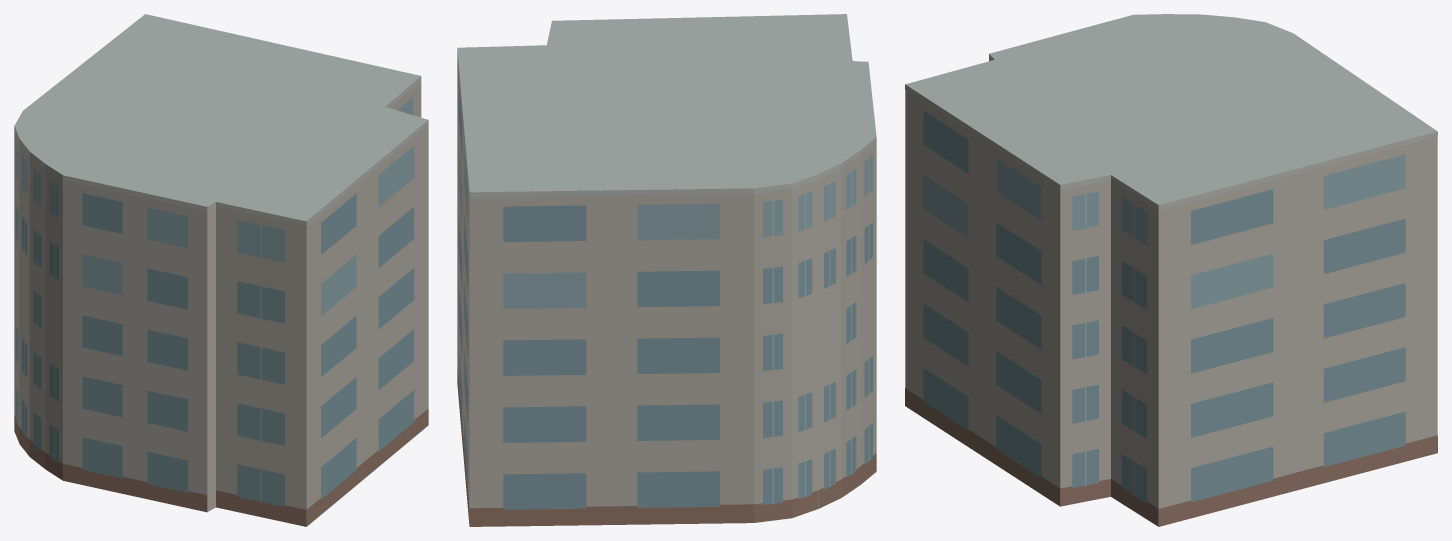
The model's file is survey-upis-32935296.glb.
3 renders of one model, left to right at view 1: azimuth 30°, elevation 25°; view 2: azimuth 150°, elevation 25°; view 3: azimuth 270°, elevation 25°, orthographic. The views are drawn at different scales.
Visible parts, largest first — view 1: survey-upis-32935296.tmp; view 2: survey-upis-32935296.tmp; view 3: survey-upis-32935296.tmp.
Boxes of the visible parts, <box> form: survey-upis-32935296.tmp: <box>14,14,428,526</box>; survey-upis-32935296.tmp: <box>457,14,876,526</box>; survey-upis-32935296.tmp: <box>905,14,1437,526</box>.
Size of the model in its own units: 19.38 by 15.2 by 22.82.
